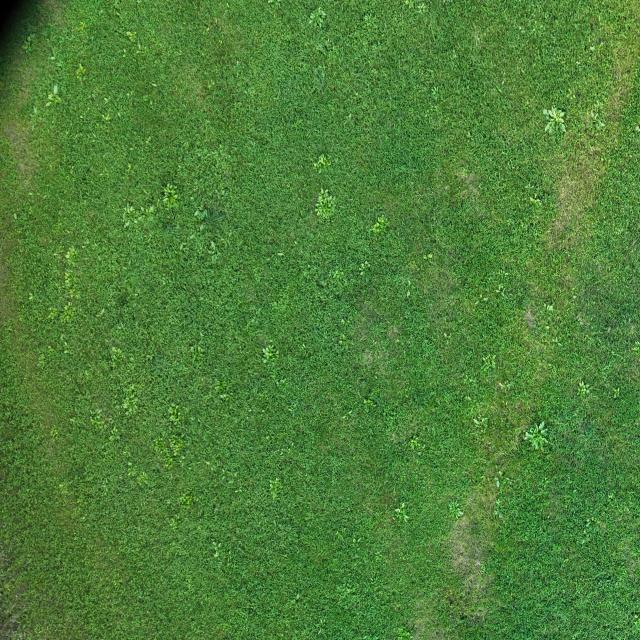rumex: (110, 8, 159, 66), (195, 4, 237, 63), (255, 340, 289, 386), (520, 9, 550, 43), (306, 65, 328, 101), (469, 409, 490, 442), (585, 106, 608, 134), (122, 202, 142, 227), (336, 327, 354, 354), (59, 297, 77, 324), (89, 408, 107, 432), (315, 188, 333, 212), (161, 183, 179, 207), (168, 438, 184, 460), (448, 499, 464, 521), (480, 354, 498, 373), (152, 436, 168, 457), (188, 343, 204, 364), (268, 478, 282, 500), (22, 33, 36, 54), (207, 240, 220, 262), (110, 346, 125, 364), (209, 539, 223, 558), (46, 90, 62, 106), (168, 406, 182, 424), (577, 380, 591, 398), (408, 436, 423, 452), (314, 154, 329, 170), (136, 470, 149, 487), (180, 494, 194, 509), (64, 246, 78, 260), (542, 302, 556, 316), (397, 626, 412, 639), (494, 498, 502, 520), (331, 269, 344, 282), (194, 208, 207, 221), (372, 221, 384, 235), (588, 110, 598, 126), (37, 353, 47, 369), (76, 62, 86, 77), (262, 347, 274, 359), (48, 308, 59, 321), (50, 425, 60, 439), (548, 106, 559, 118), (397, 512, 409, 523), (76, 20, 86, 33), (360, 260, 371, 271), (127, 397, 137, 409), (124, 204, 134, 216), (533, 438, 543, 450), (416, 2, 426, 13), (544, 122, 554, 133), (474, 33, 481, 48), (145, 206, 155, 216), (101, 113, 111, 123), (473, 417, 483, 427), (612, 386, 620, 398), (558, 122, 566, 134), (214, 382, 223, 392), (127, 32, 136, 42), (556, 110, 566, 119), (2, 582, 11, 592), (64, 272, 72, 283), (221, 393, 230, 402), (166, 183, 175, 192), (524, 430, 533, 439), (496, 284, 504, 294), (178, 243, 186, 253), (431, 86, 438, 97), (363, 398, 372, 406), (207, 80, 215, 89), (122, 403, 130, 412), (530, 196, 539, 204), (497, 382, 505, 391), (319, 12, 327, 21), (540, 426, 548, 435), (635, 341, 640, 355), (308, 16, 315, 26), (33, 106, 39, 117), (53, 84, 59, 95), (589, 45, 597, 53), (542, 109, 550, 117), (56, 59, 63, 68), (199, 223, 206, 232), (113, 428, 119, 438), (466, 130, 472, 140), (339, 334, 346, 342), (48, 56, 56, 63), (47, 93, 55, 100), (277, 251, 285, 258), (262, 357, 269, 365), (164, 198, 171, 206), (126, 163, 132, 172), (204, 25, 210, 33), (104, 96, 110, 104), (65, 302, 71, 310), (427, 252, 433, 260), (406, 291, 412, 299), (295, 593, 301, 601), (13, 212, 18, 221), (452, 51, 457, 60), (146, 136, 152, 143), (124, 221, 130, 228), (28, 294, 34, 301), (45, 100, 52, 106), (65, 252, 71, 259), (360, 269, 366, 276), (320, 188, 326, 195), (608, 492, 613, 500), (498, 470, 503, 477), (275, 349, 280, 356), (637, 124, 640, 132)
